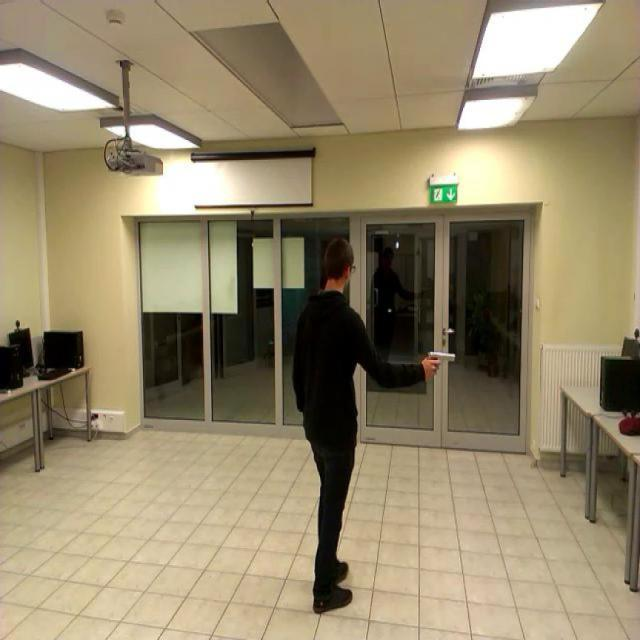pistol: (427, 351, 455, 376)
